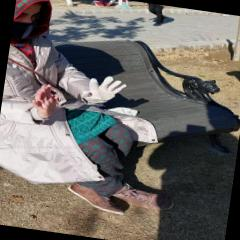gloved: (84, 74, 125, 106)
not-gloved: (28, 82, 62, 120)
